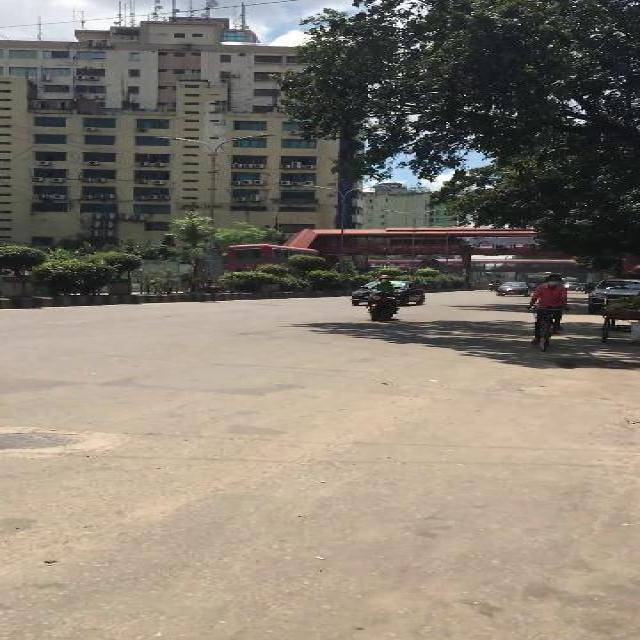10: (362, 274, 402, 320)
5: (349, 278, 426, 304), (494, 280, 530, 296)
9: (583, 276, 637, 314)
Motorcycle: (524, 270, 575, 352)
Truck: (225, 242, 319, 272)
